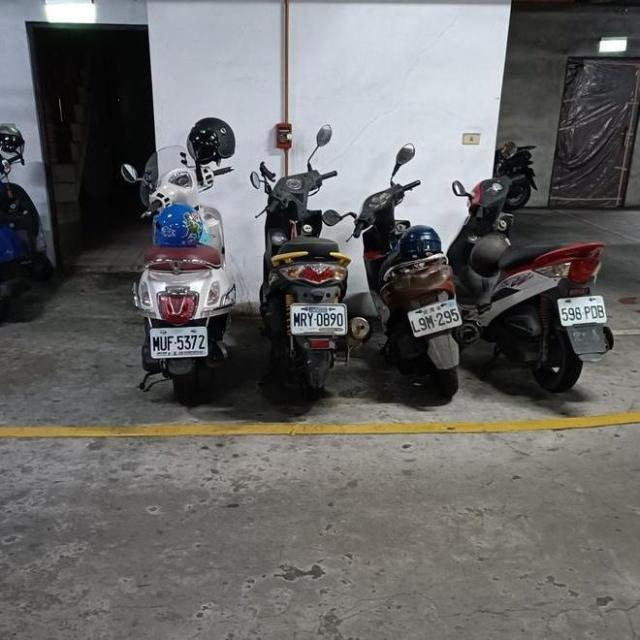W: (402, 290, 462, 338), (552, 286, 608, 331), (288, 296, 349, 337), (148, 321, 210, 360)
